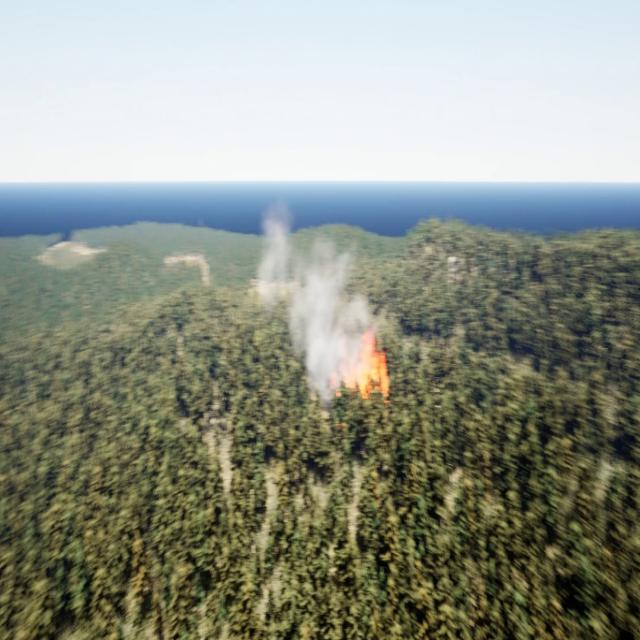fire: (327, 329, 393, 402)
smoke: (258, 198, 378, 402)
